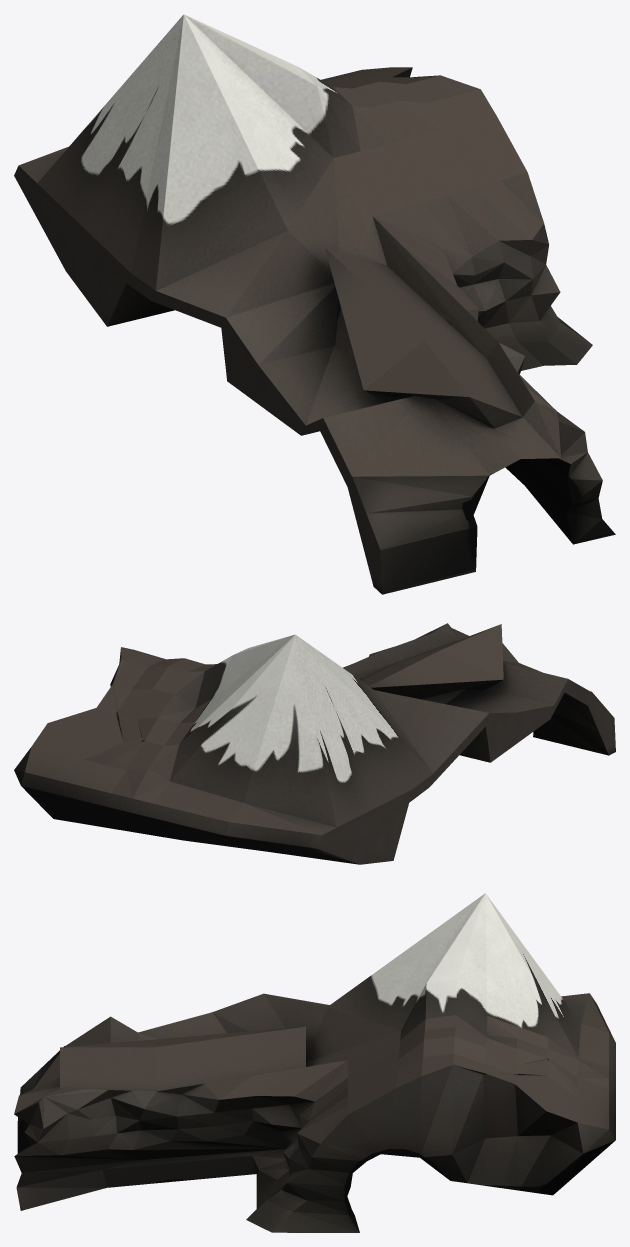
Rendered from mountain.FBX.
3 renders of one model, top to bottom at view 1: azimuth 30°, elevation 25°; view 2: azimuth 150°, elevation 25°; view 3: azimuth 270°, elevation 25°, orthographic. The views are drawn at different scales.
Parts seen in each view (by area): view 1: Homemade_Mountain; view 2: Homemade_Mountain; view 3: Homemade_Mountain.
Part boxes in pixels (bbox=[...]): Homemade_Mountain: bbox=[14, 14, 615, 594]; Homemade_Mountain: bbox=[14, 623, 615, 864]; Homemade_Mountain: bbox=[14, 893, 615, 1232].
Bounding box in the file's own units: 6262 × 5267 × 10786.
